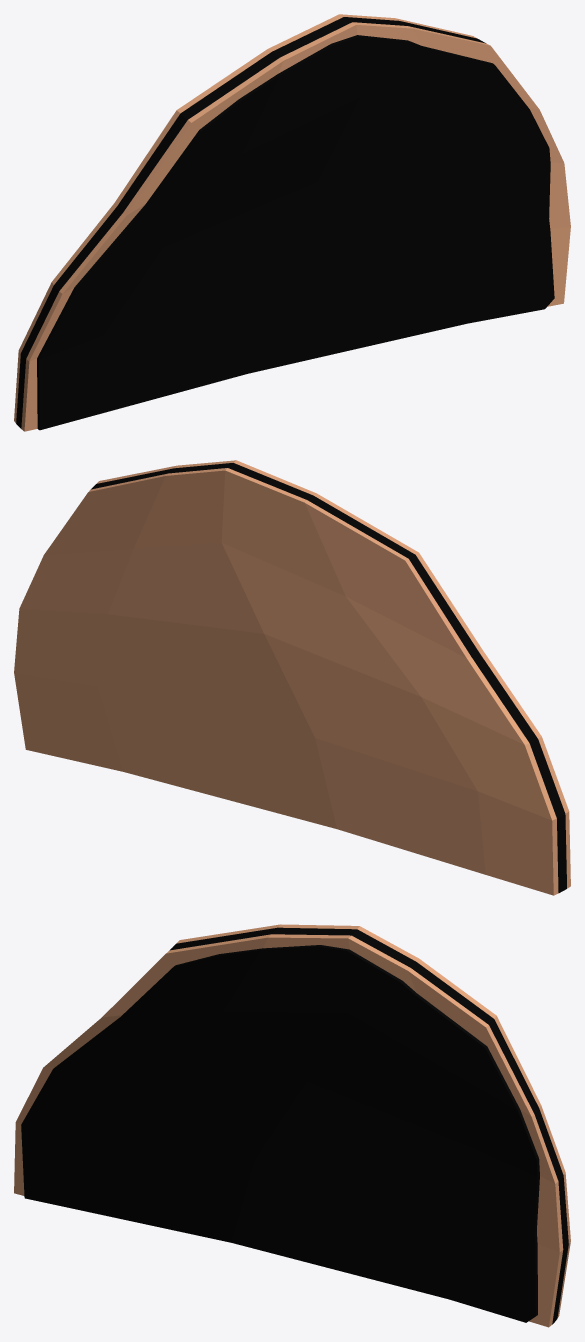
File: CardboardBush03.fbx
The picture shows the model from 3 angles, top to bottom: view 1: azimuth 30°, elevation 25°; view 2: azimuth 150°, elevation 25°; view 3: azimuth 330°, elevation 25°; orthographic projection. The views are drawn at different scales.
Parts seen in each view (by area): view 1: Cube.017; view 2: Cube.017; view 3: Cube.017.
Part boxes in pixels (x1=…): Cube.017: x1=14, y1=14, x2=570, y2=431; Cube.017: x1=14, y1=460, x2=570, y2=895; Cube.017: x1=14, y1=924, x2=570, y2=1327.
Bounding box in the file's own units: 405 × 238 × 33.77.
